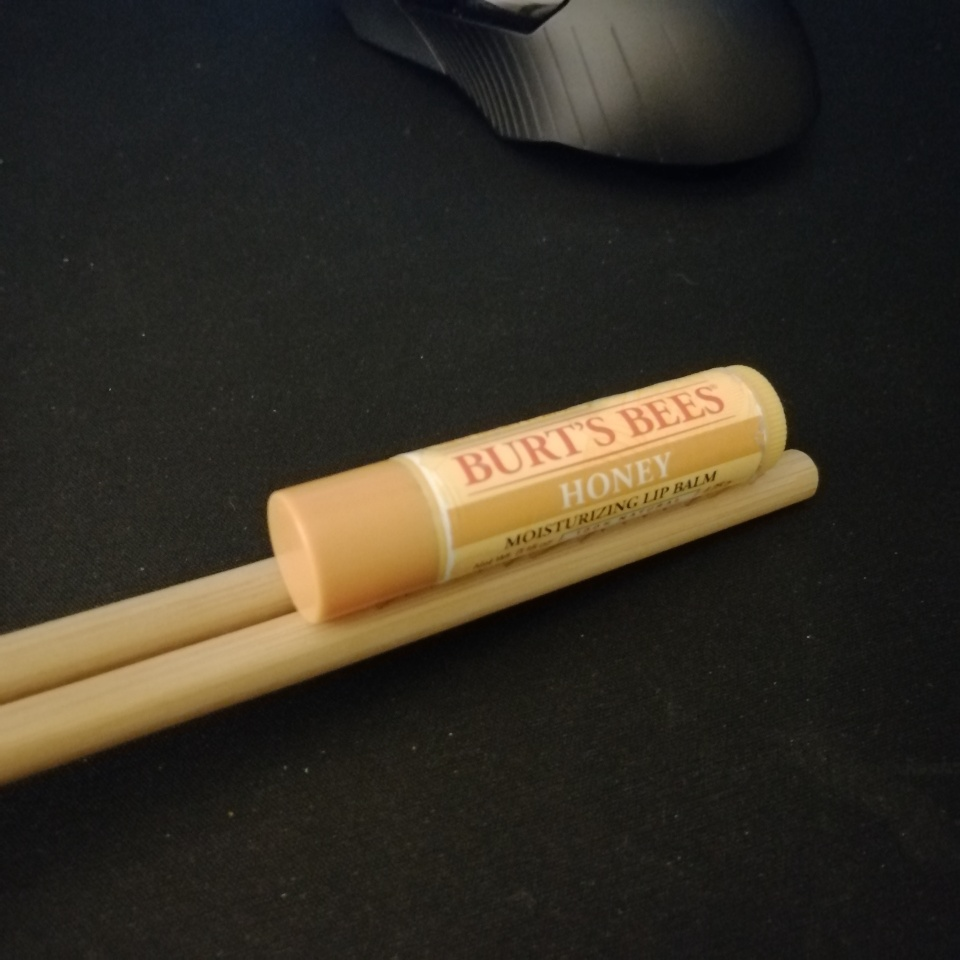chapstick: (267, 362, 789, 623)
